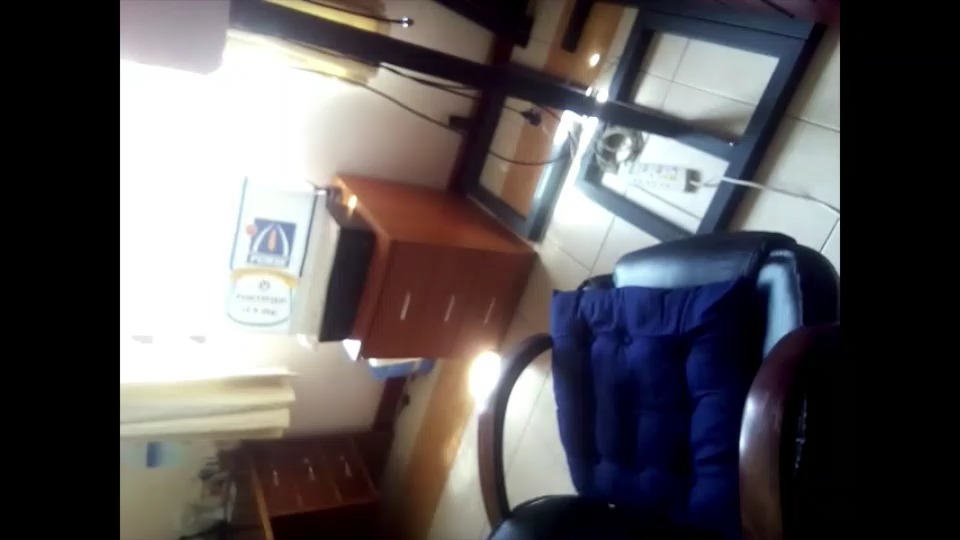wheat_flour_blue_label: (213, 176, 320, 331)
